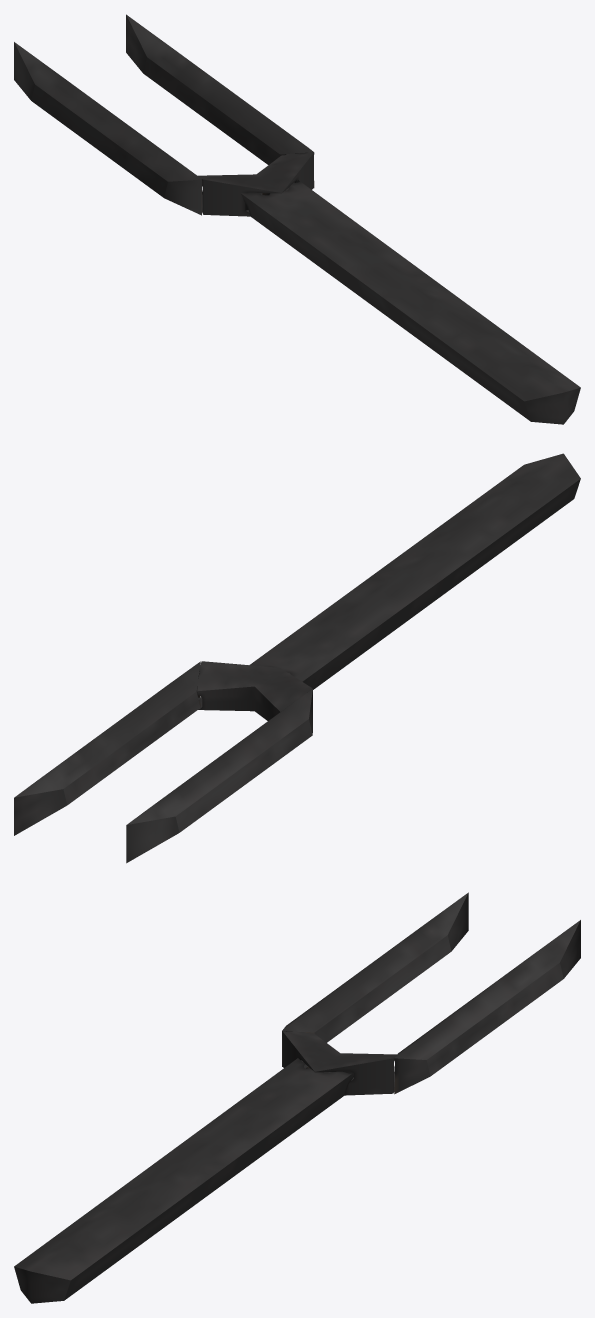
File: Fork.fbx
3 views of the same model, one above another, from view 1: azimuth 30°, elevation 25°; view 2: azimuth 150°, elevation 25°; view 3: azimuth 330°, elevation 25° (orthographic).
Visible parts, largest first — view 1: pCube86; view 2: pCube86; view 3: pCube86.
Boxes of the visible parts, box(x1,y1,x2,y2) form: pCube86: box(14, 14, 580, 424); pCube86: box(14, 453, 580, 863); pCube86: box(14, 892, 580, 1303).
Bounding box in the file's own units: 18.25 × 4.51 × 105.
